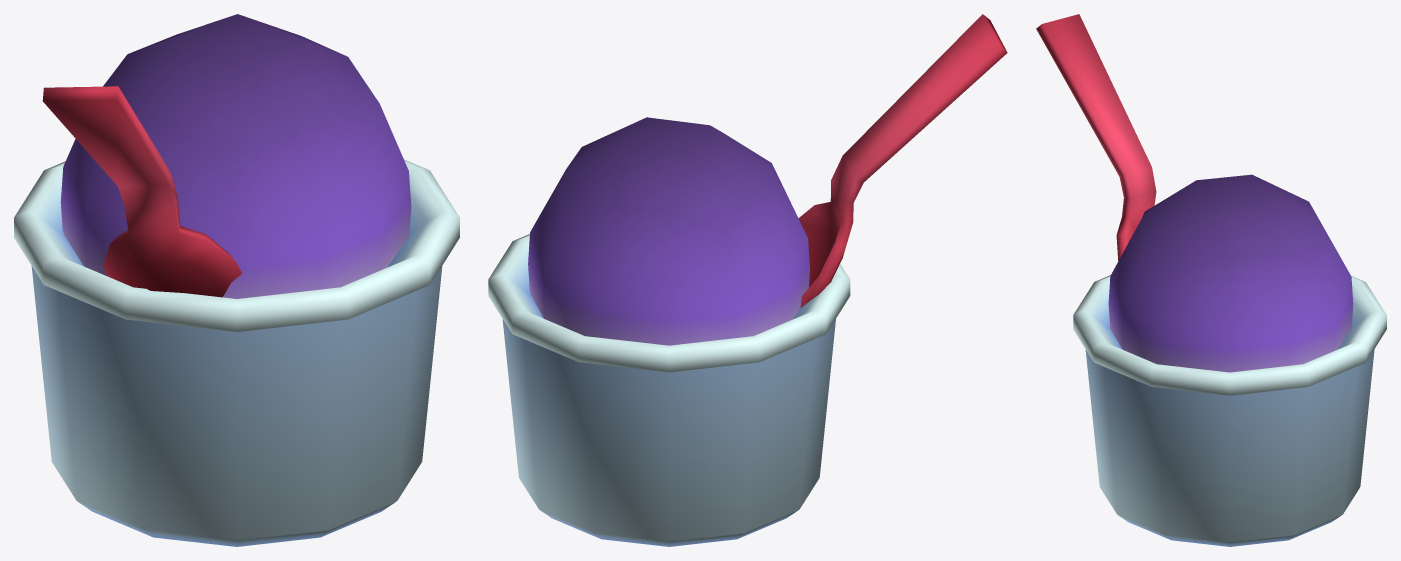
The model's file is m_ShavedIce08.fbx.
3 views of the same model, side by side, from view 1: azimuth 30°, elevation 25°; view 2: azimuth 150°, elevation 25°; view 3: azimuth 270°, elevation 25° (orthographic). The views are drawn at different scales.
Visible parts, largest first — view 1: m_ShavedIce08; view 2: m_ShavedIce08; view 3: m_ShavedIce08.
Boxes of the visible parts, x1=… form: m_ShavedIce08: x1=14, y1=14, x2=459, y2=546; m_ShavedIce08: x1=488, y1=14, x2=1007, y2=546; m_ShavedIce08: x1=1036, y1=14, x2=1386, y2=546.
Bounding box in the file's own units: 17.63 × 18.57 × 15.27.
